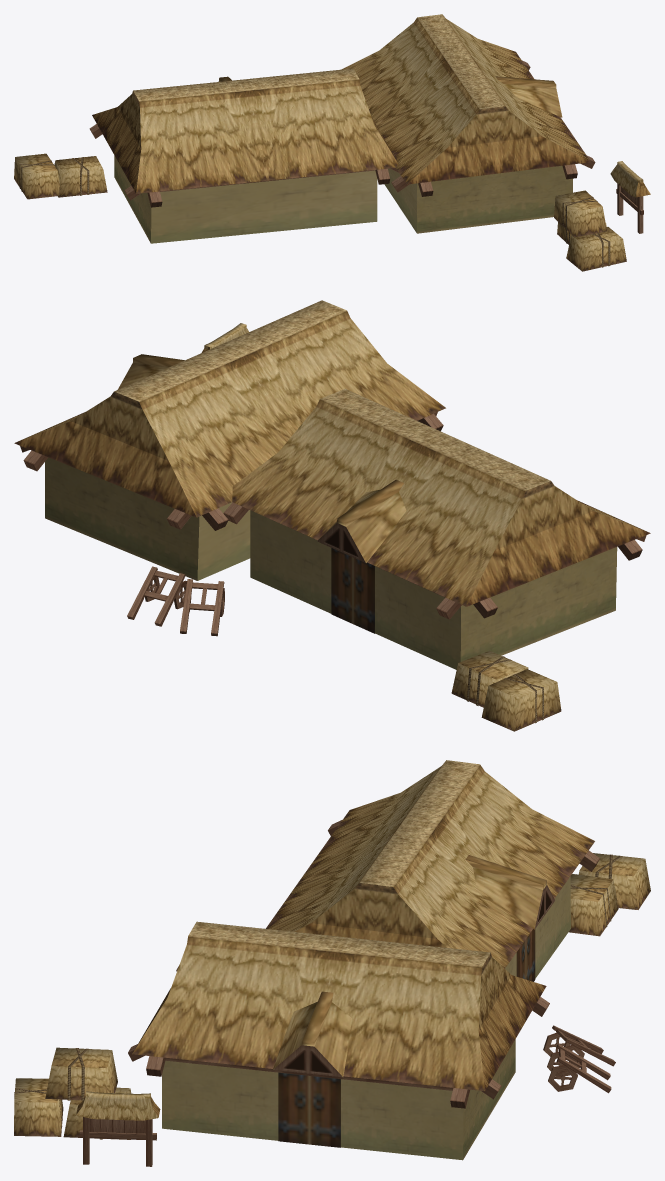
File: Area_09_18.fbx
3 renders of one model, top to bottom at view 1: azimuth 30°, elevation 25°; view 2: azimuth 150°, elevation 25°; view 3: azimuth 270°, elevation 25°, orthographic. The views are drawn at different scales.
Parts seen in each view (by area): view 1: Area_09_18; view 2: Area_09_18; view 3: Area_09_18.
Boxes of the visible parts, x1,y1,x2,y2 form: Area_09_18: (14,14,650,271); Area_09_18: (14,300,650,731); Area_09_18: (14,760,650,1166).
Bounding box in the file's own units: 2587 × 670 × 2344.
